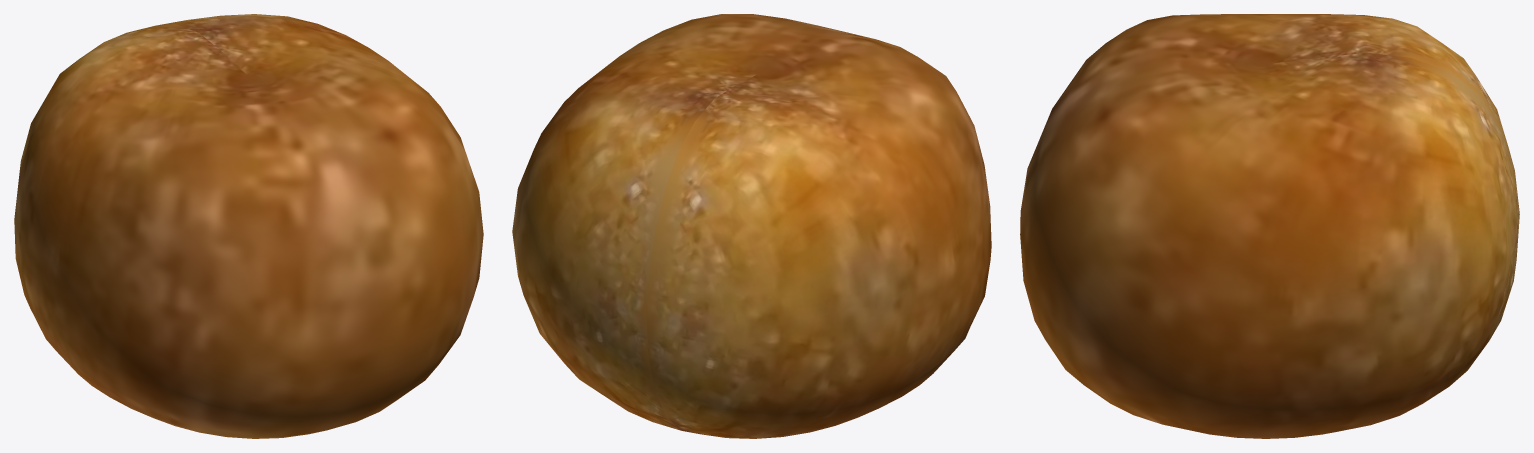
File: Buñuelo.fbx
3 views of the same model, side by side, from view 1: azimuth 30°, elevation 25°; view 2: azimuth 150°, elevation 25°; view 3: azimuth 270°, elevation 25° (orthographic). The views are drawn at different scales.
Parts seen in each view (by area): view 1: Sphere; view 2: Sphere; view 3: Sphere.
Part boxes in pixels (x1,y1,x2,y2): Sphere: [14, 14, 483, 438]; Sphere: [512, 14, 991, 438]; Sphere: [1020, 14, 1519, 438].
Size of the model in its own units: 108 by 88.79 by 116.
